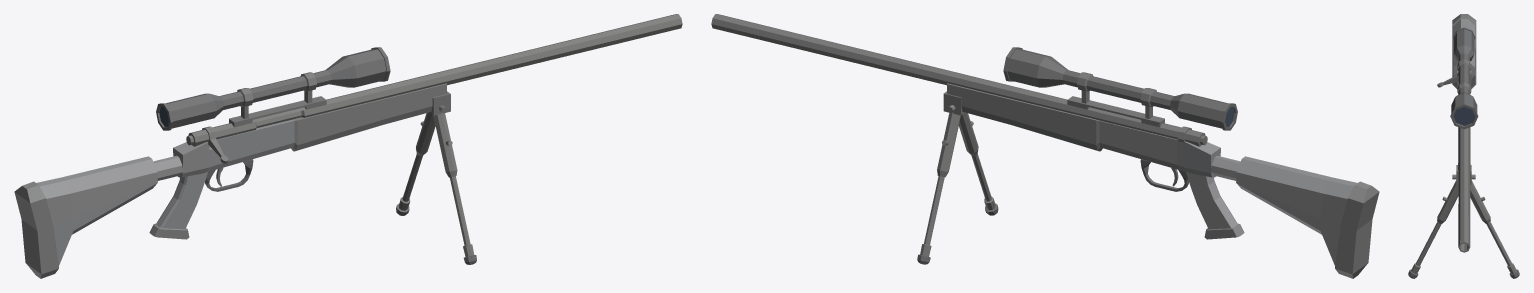
Rendered from gun-sniperrifle-5.glb.
3 renders of one model, left to right at view 1: azimuth 30°, elevation 25°; view 2: azimuth 150°, elevation 25°; view 3: azimuth 270°, elevation 25°, orthographic. The views are drawn at different scales.
Parts seen in each view (by area): view 1: SniperRifle_5; view 2: SniperRifle_5; view 3: SniperRifle_5.
Boxes of the visible parts, box(x1,y1,x2,y2) form: SniperRifle_5: box(14, 14, 682, 278); SniperRifle_5: box(711, 14, 1379, 278); SniperRifle_5: box(1408, 14, 1519, 278).
Bounding box in the file's own units: 6.34 × 1.9 × 1.25.
